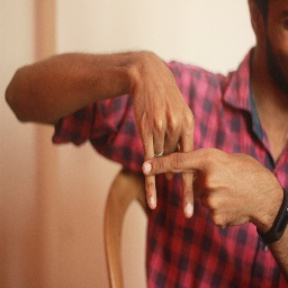H: (131, 114, 232, 219)
